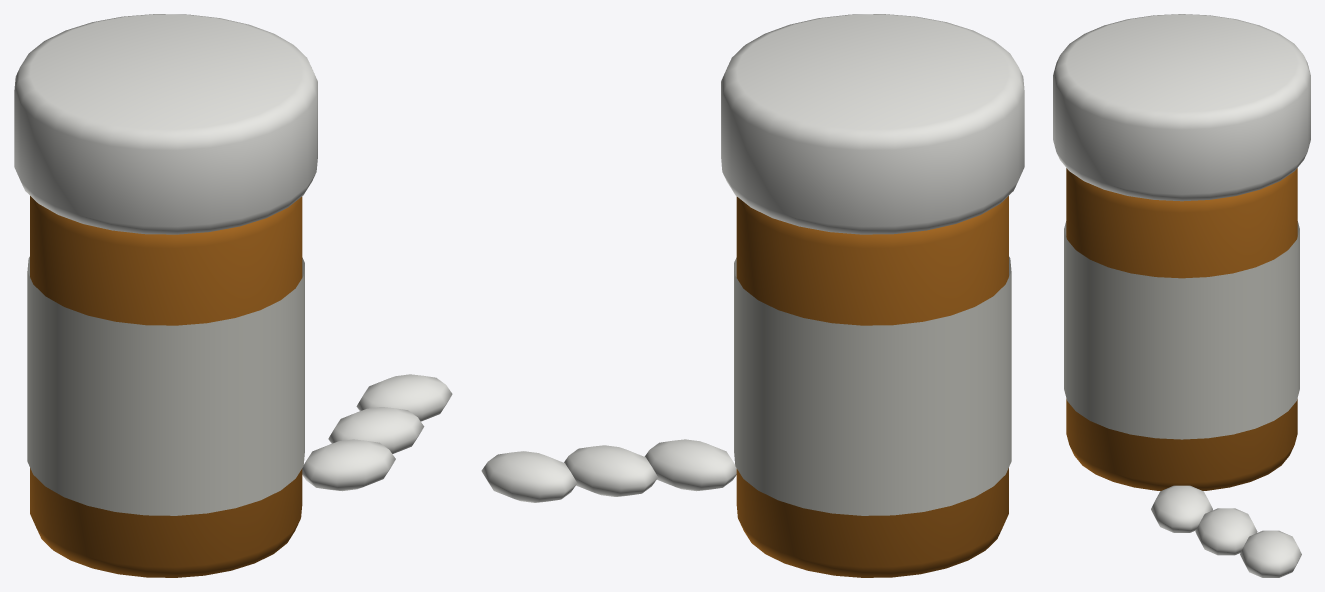
Rendered from stim.glb.
3 views of the same model, side by side, from view 1: azimuth 30°, elevation 25°; view 2: azimuth 150°, elevation 25°; view 3: azimuth 270°, elevation 25° (orthographic). The views are drawn at different scales.
Visible parts, largest first — view 1: cap.001, label, bottle, pill, pill.002, pill.001; view 2: cap.001, label, bottle, pill.002, pill.001, pill; view 3: cap.001, label, bottle, pill.002, pill.001, pill.
Part boxes in pixels (x1,y1,x2,y2): cap.001: (14,14,317,234); label: (27,256,304,515); bottle: (30,196,302,577); pill: (302,439,395,491); pill.002: (356,374,452,421); pill.001: (328,407,424,453); cap.001: (721,14,1024,234); label: (734,256,1011,515); bottle: (736,196,1008,577); pill.002: (481,451,577,502); pill.001: (564,445,657,496); pill: (644,439,736,491); cap.001: (1053,14,1310,201); label: (1064,221,1299,439); bottle: (1066,168,1297,490); pill.002: (1240,530,1301,577); pill.001: (1195,508,1257,555); pill: (1151,485,1212,532).
Bounding box in the file's own units: 0.1023 × 0.0962 × 0.058.
